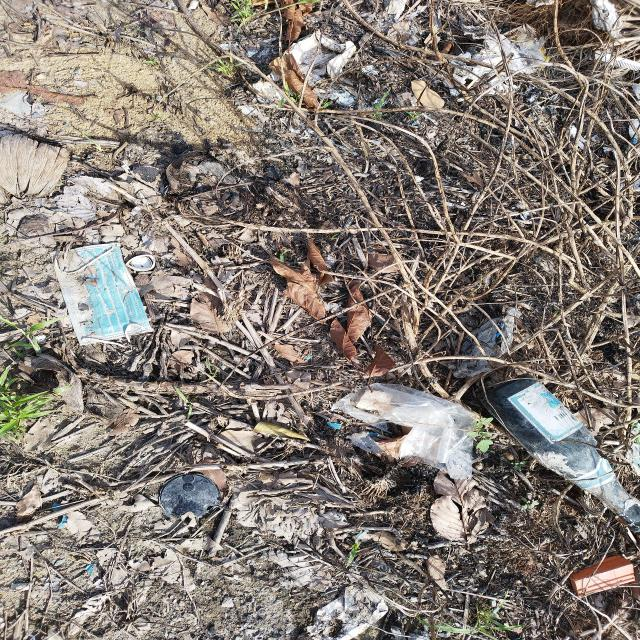bag: (330, 382, 477, 480)
bottle: (478, 373, 640, 524)
lid: (158, 472, 221, 520)
mask: (47, 242, 156, 345)
